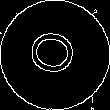O_E: (25, 29, 85, 81)
